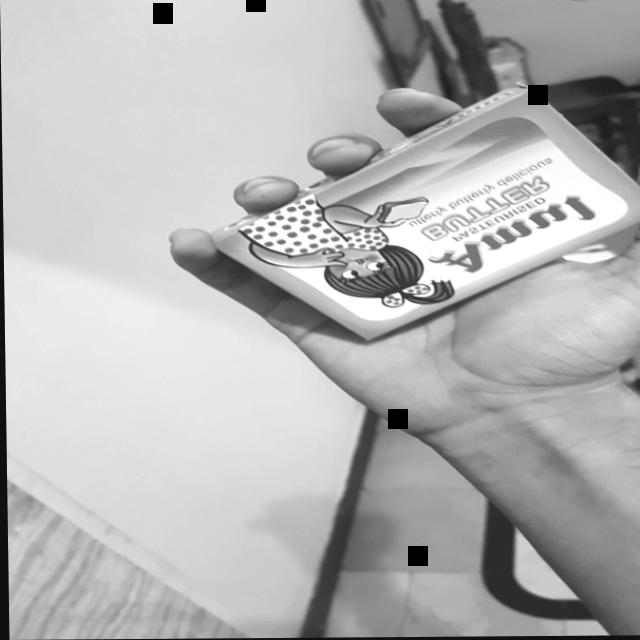butter: (202, 81, 640, 366)
